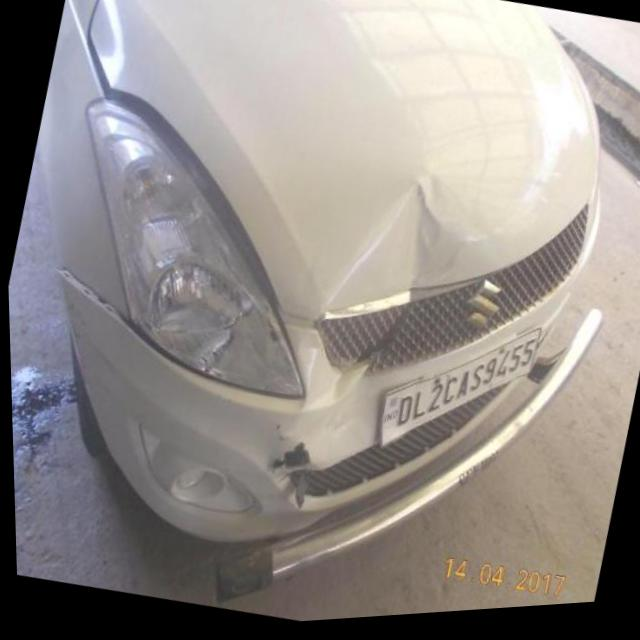Car-Damage: (321, 164, 499, 347), (289, 331, 391, 466), (266, 438, 315, 482)
